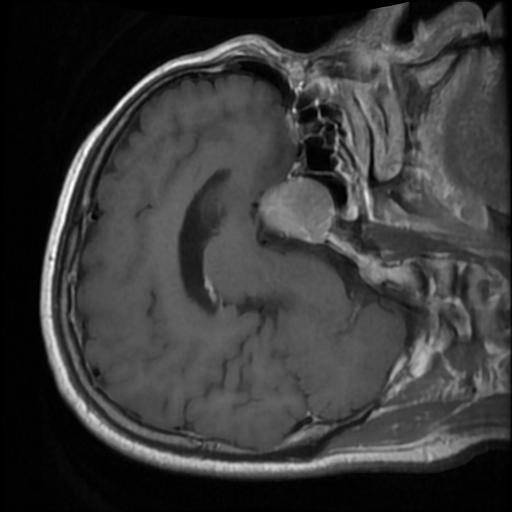pituitary tumour: (257, 177, 335, 245)
